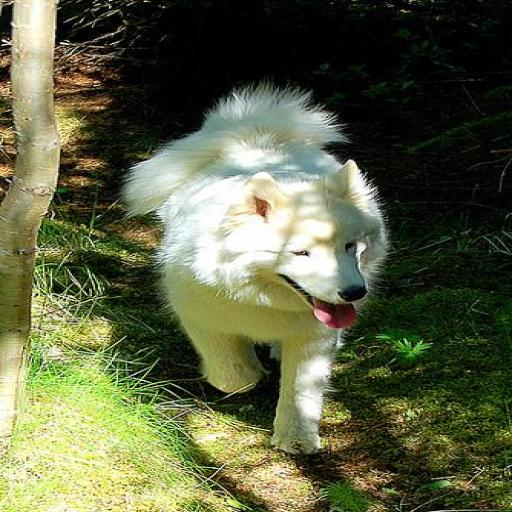dog_face: (226, 165, 383, 334)
